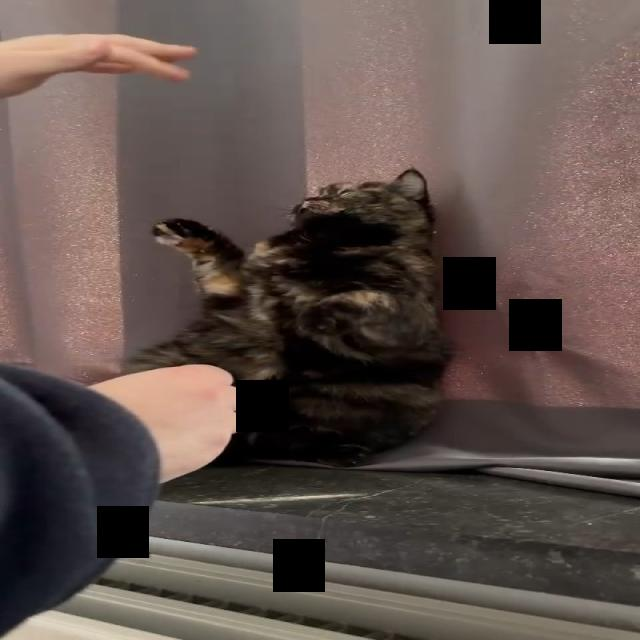authorized: (119, 166, 456, 468)
